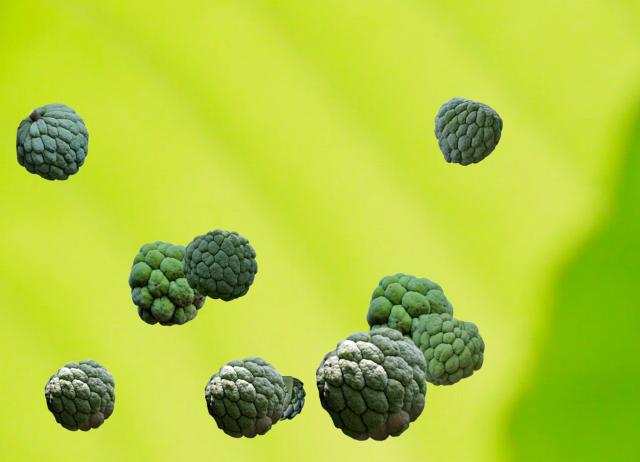atis: (315, 327, 426, 440), (128, 240, 206, 325), (204, 356, 283, 437), (366, 272, 453, 339), (16, 103, 87, 179), (182, 229, 256, 300), (412, 313, 483, 384), (44, 359, 114, 430), (434, 97, 501, 164), (281, 376, 306, 419)
